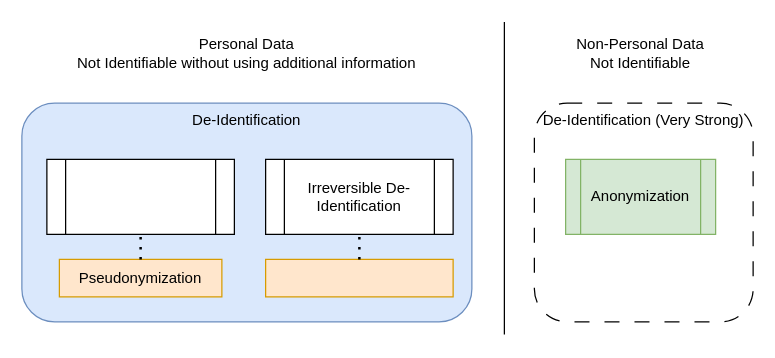
This 775x358 diagram has some shape labels left out. Here are the shapes that lost their labels. From the top down, the centre of each, then its label:
the point at 140,196: Reversible De-Identification
the point at 358,277: Irreversible Pseudonymization
